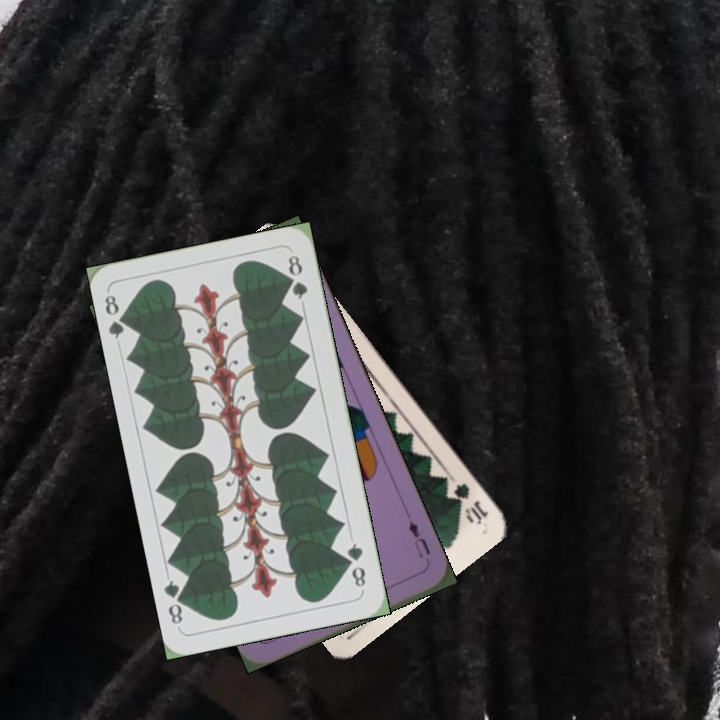EU: (404, 516, 434, 561)
G10: (449, 479, 491, 528)
G8: (100, 291, 133, 341), (342, 539, 368, 590)
